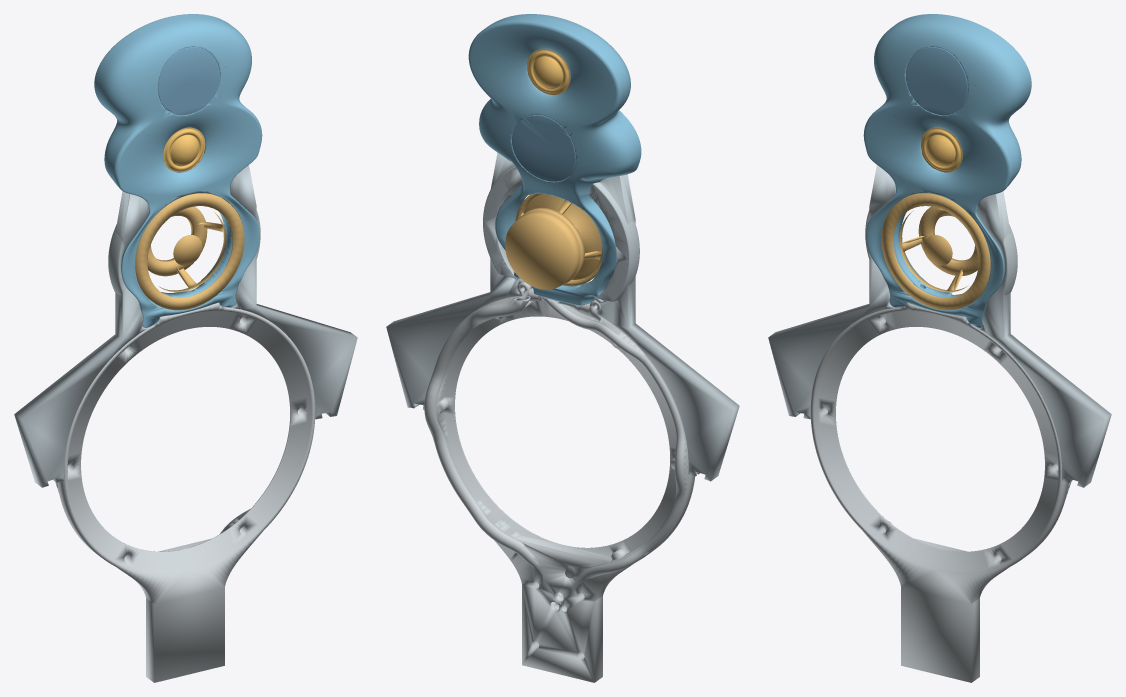
The model's file is nd25fn4_flat_wings.glb.
The picture shows the model from 3 angles, left to right: view 1: azimuth 30°, elevation 25°; view 2: azimuth 150°, elevation 25°; view 3: azimuth 330°, elevation 25°; orthographic projection. The views are drawn at different scales.
Visible parts, largest first — view 1: existing_LM_carrier, fused_UM_V4, V4_flat_left_upper_wing, SEAS_MU10_reference_terminals_omitted, V4_flat_right_upper_wing, cap_upper, Dayton_ND25FN4_0_reference; view 2: existing_LM_carrier, fused_UM_V4, V4_flat_left_upper_wing, V4_flat_right_upper_wing, SEAS_MU10_reference_terminals_omitted, cap_lower, Dayton_ND25FN4_1_reference; view 3: existing_LM_carrier, fused_UM_V4, V4_flat_right_upper_wing, SEAS_MU10_reference_terminals_omitted, V4_flat_left_upper_wing, cap_upper, Dayton_ND25FN4_0_reference.
Boxes of the visible parts, x1,y1,x2,y2 form: existing_LM_carrier: [55, 302, 315, 682]; fused_UM_V4: [94, 14, 262, 327]; V4_flat_left_upper_wing: [14, 191, 148, 487]; SEAS_MU10_reference_terminals_omitted: [135, 193, 244, 310]; V4_flat_right_upper_wing: [230, 165, 357, 419]; cap_upper: [158, 47, 220, 115]; Dayton_ND25FN4_0_reference: [163, 127, 205, 172]; existing_LM_carrier: [424, 281, 694, 682]; fused_UM_V4: [468, 14, 641, 305]; V4_flat_left_upper_wing: [589, 174, 739, 481]; V4_flat_right_upper_wing: [386, 152, 523, 409]; SEAS_MU10_reference_terminals_omitted: [505, 193, 602, 289]; cap_lower: [512, 115, 575, 181]; Dayton_ND25FN4_1_reference: [527, 49, 570, 94]; existing_LM_carrier: [810, 302, 1071, 682]; fused_UM_V4: [863, 14, 1031, 327]; V4_flat_right_upper_wing: [977, 191, 1111, 487]; SEAS_MU10_reference_terminals_omitted: [881, 193, 990, 310]; V4_flat_left_upper_wing: [768, 165, 895, 419]; cap_upper: [905, 47, 967, 115]; Dayton_ND25FN4_0_reference: [921, 127, 962, 172].
Size of the model in its own units: 0.3048 by 0.5556 by 0.0446.
